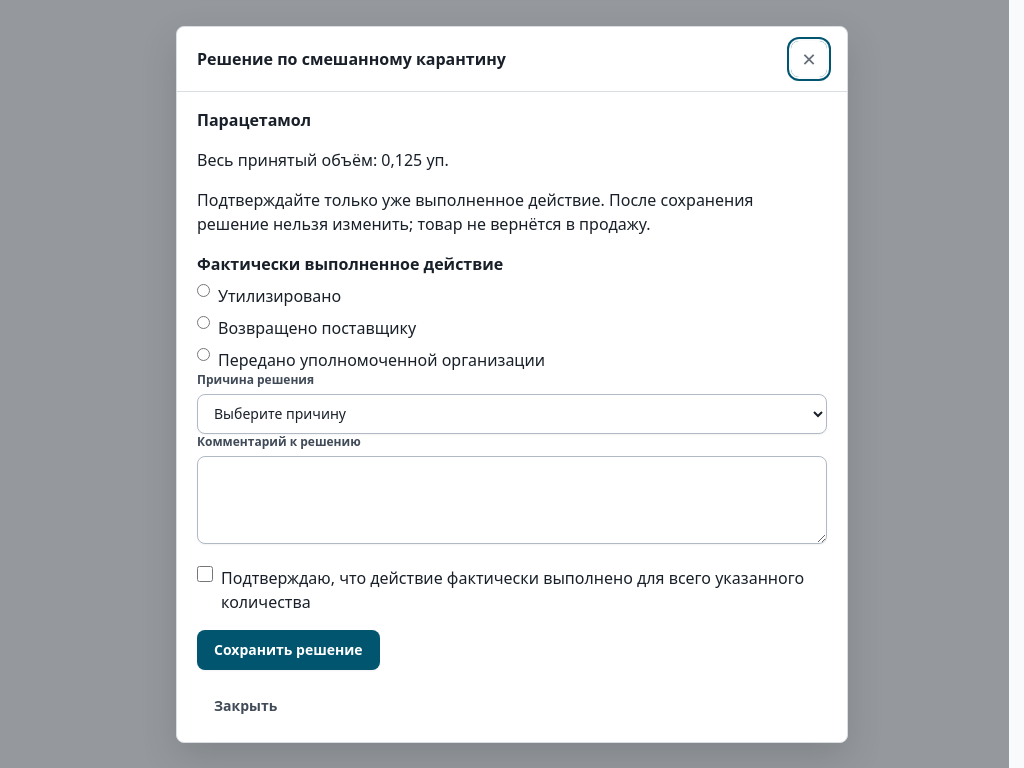
Test: mixed disposition modal recovery › a lost explicit submission transitions into recovery without submitting again
Click the radio button labelled "Утилизировано" at (204, 290), box [197,284,210,296]
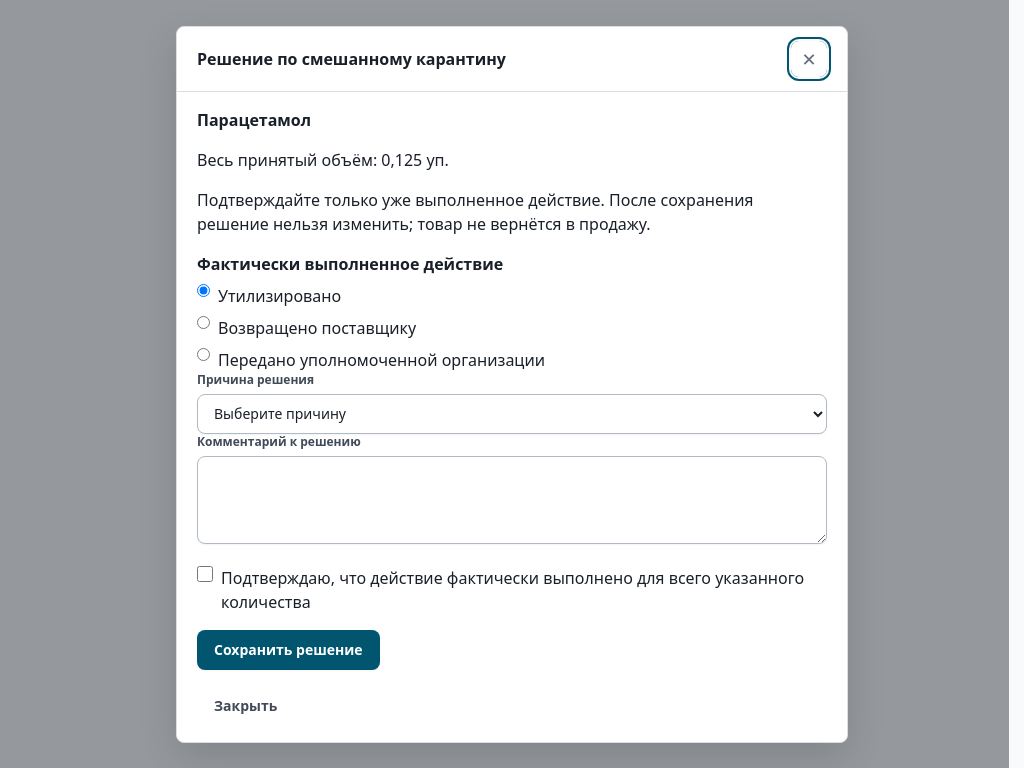
Select "Повреждение" in the dropdown labelled "Причина решения" at (512, 414), box [197,394,827,434]
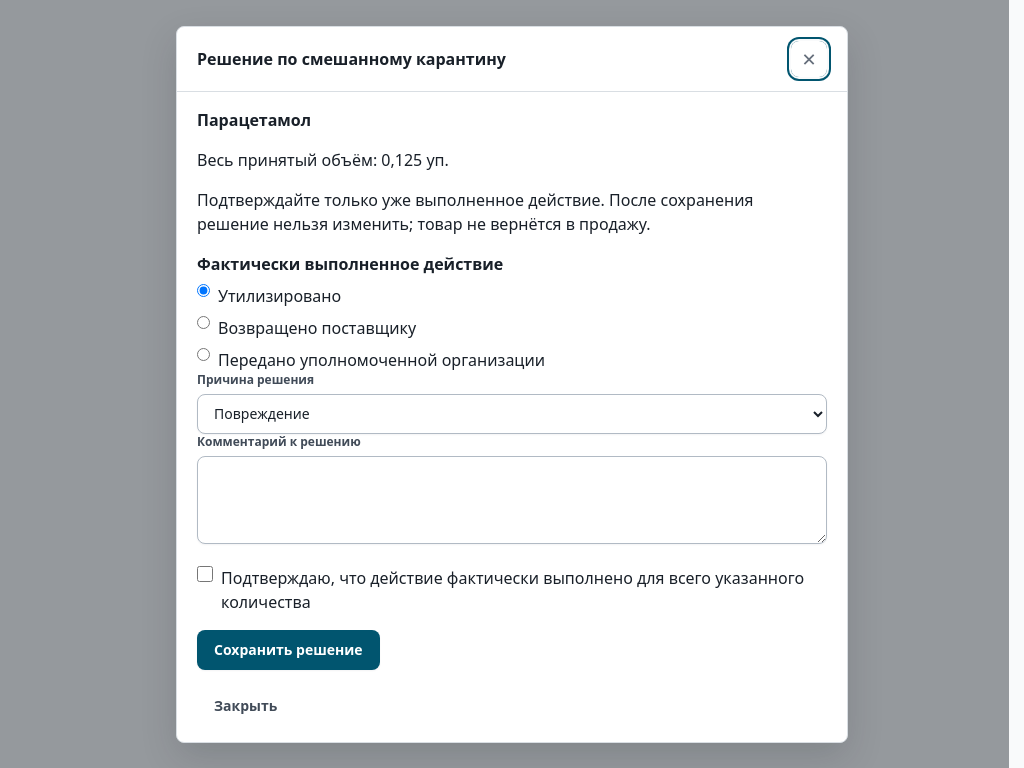
Type "  Фактически выполнено  " into the text box labelled "Комментарий к решению" at (512, 500), box [197,456,827,544]
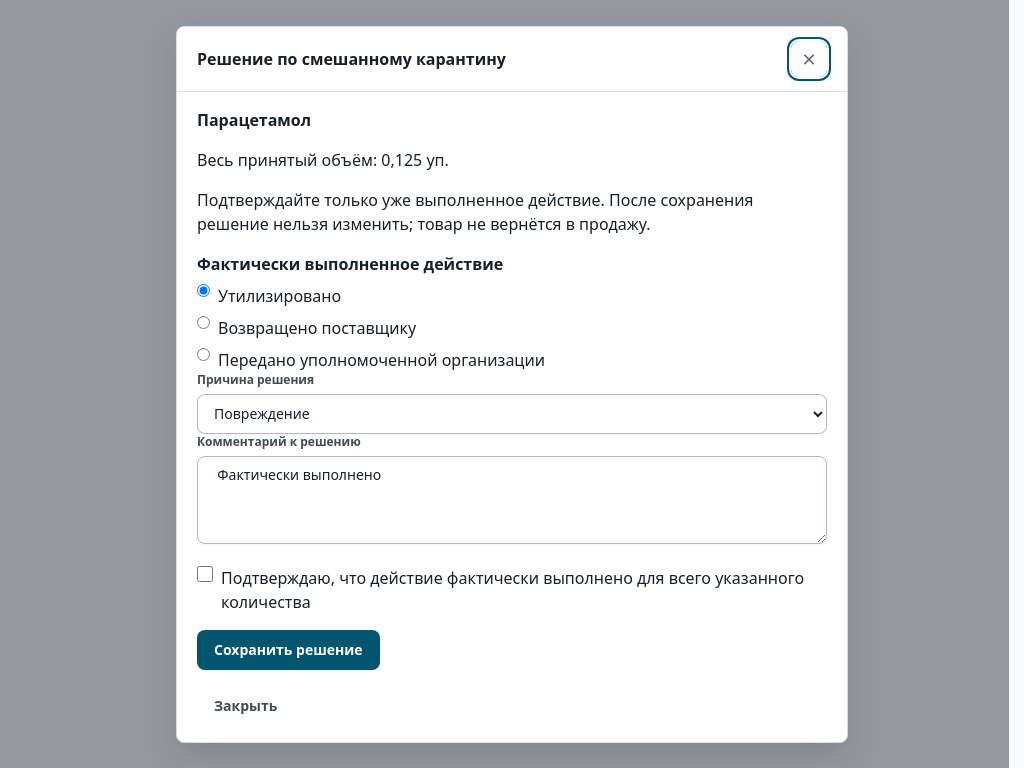
Click the checkbox labelled "Подтверждаю, что действие" at (205, 574), box [197,566,213,582]
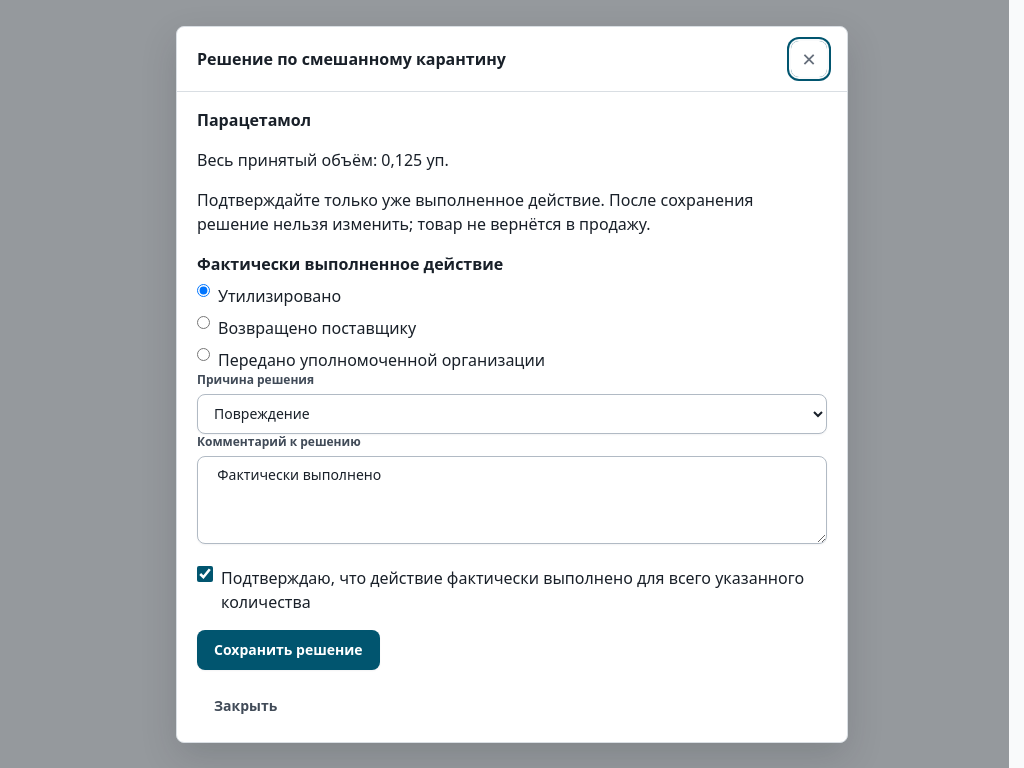
Click the button "Сохранить решение" at (288, 650), box [197,630,380,670]
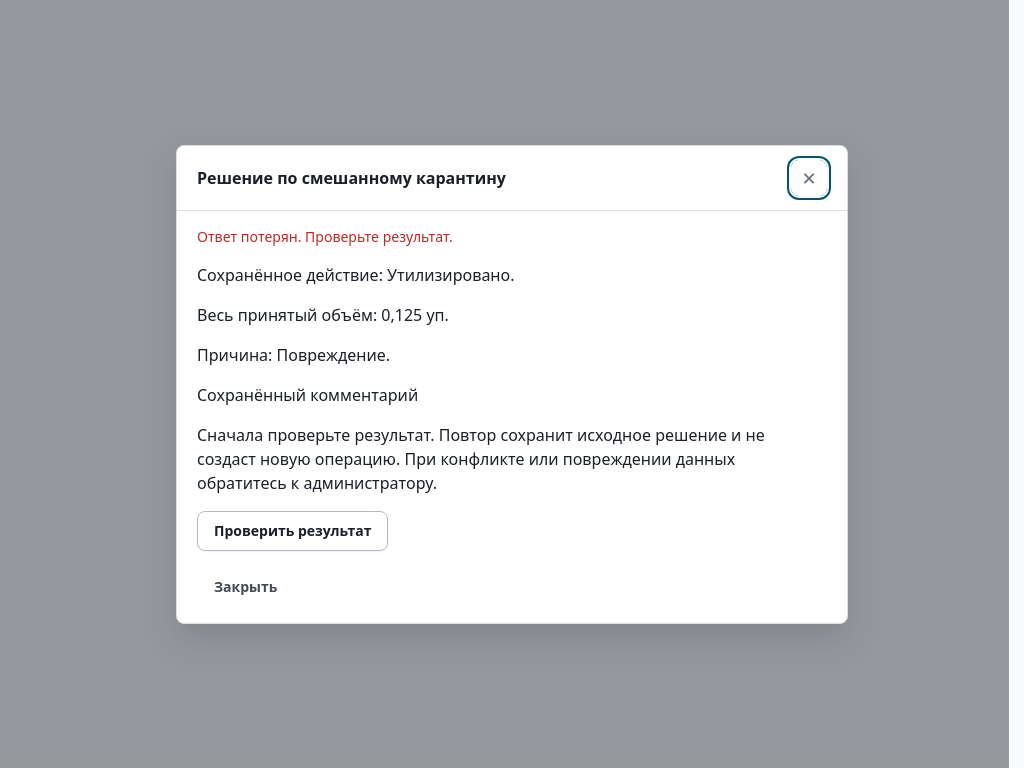
Expected: the button "Проверить результат" is enabled, [197,510,388,550]
Now the text "Ответ потерян. Проверьте результат." is shown, box [197,226,453,246]
Now the button "Сохранить решение" is gone
